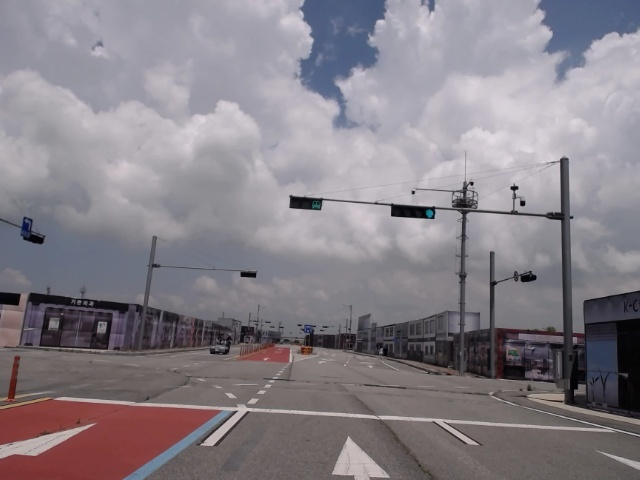straight_green_4: (391, 205, 436, 220)
